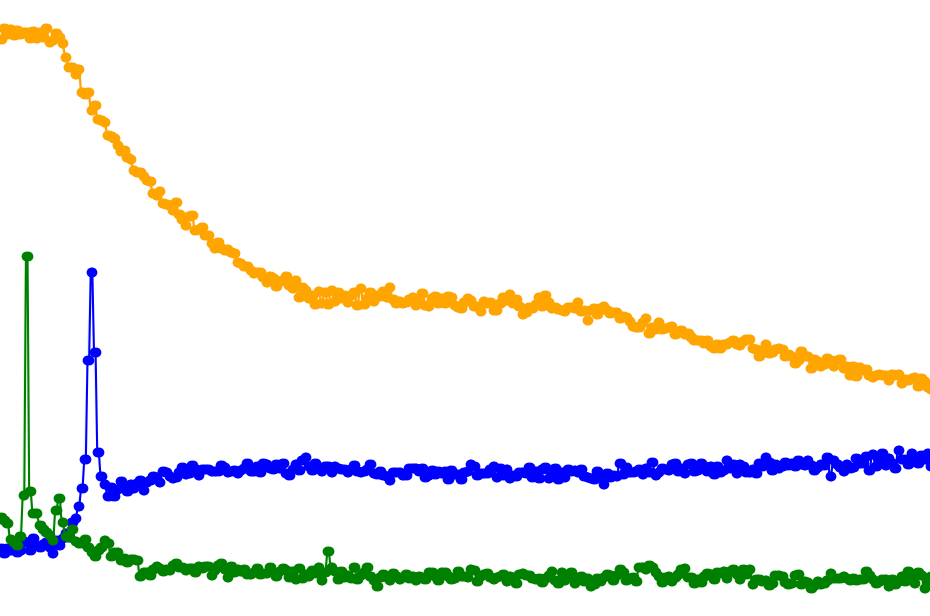CO2 Problem: (311, 0, 738, 616), (738, 0, 930, 616), (155, 0, 311, 616), (38, 0, 155, 616)
Condensation (CO2): (38, 0, 311, 616), (738, 0, 930, 616), (311, 0, 388, 616)
Condensation (O2): (777, 0, 930, 616), (311, 0, 388, 616)
High CO2: (622, 0, 738, 616)
High O2: (38, 0, 311, 616), (311, 0, 505, 616), (155, 0, 311, 616), (38, 0, 155, 616)
Low CO2: (311, 0, 738, 616), (311, 0, 505, 616), (738, 0, 930, 616), (155, 0, 311, 616), (38, 0, 155, 616)
Low O2: (311, 0, 388, 616)
Normal: (0, 0, 930, 616), (311, 0, 738, 616), (311, 0, 622, 616), (738, 0, 930, 616), (155, 0, 311, 616), (777, 0, 930, 616), (38, 0, 155, 616), (155, 0, 272, 616), (622, 0, 738, 616), (38, 0, 116, 616), (0, 0, 38, 616)
O2 Problem: (311, 0, 738, 616), (311, 0, 622, 616), (738, 0, 930, 616), (155, 0, 311, 616), (777, 0, 930, 616), (622, 0, 738, 616)
